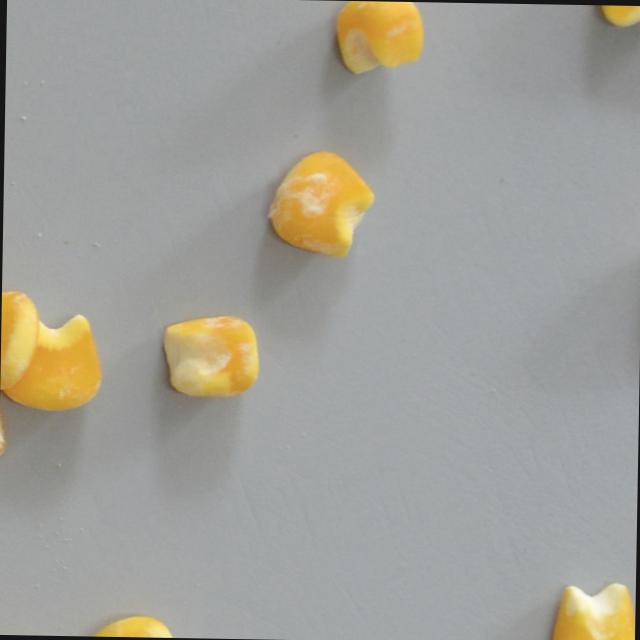no_canjicado: (7, 315, 103, 413), (334, 0, 424, 77), (550, 581, 634, 640), (0, 290, 38, 392), (81, 612, 180, 638), (598, 5, 640, 34)
pelicula: (261, 151, 373, 258), (159, 313, 260, 400)
